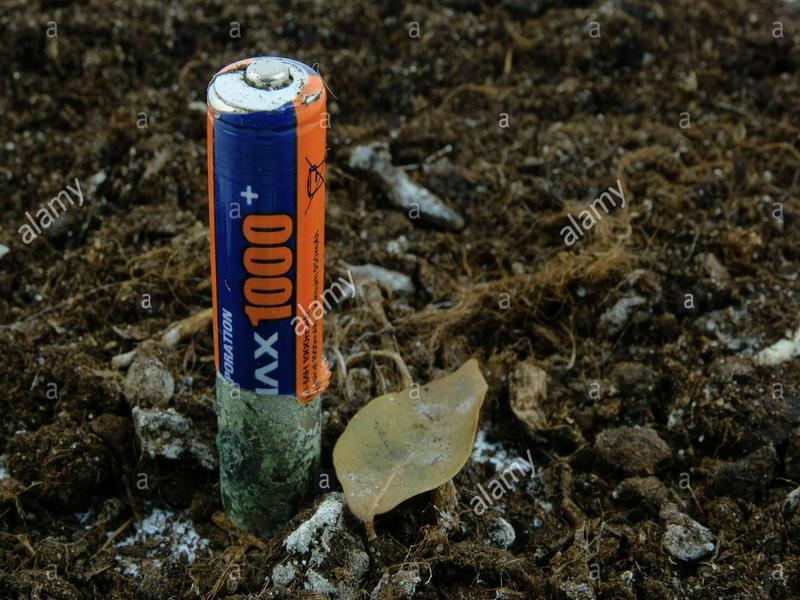battery: (195, 42, 337, 528)
leaf: (330, 353, 505, 547)
